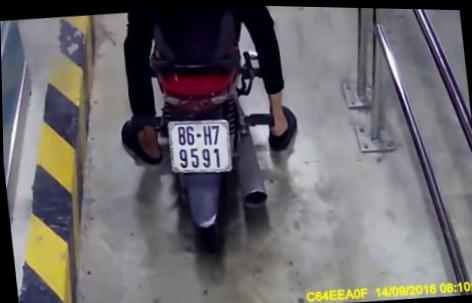LP: (165, 113, 234, 177)
